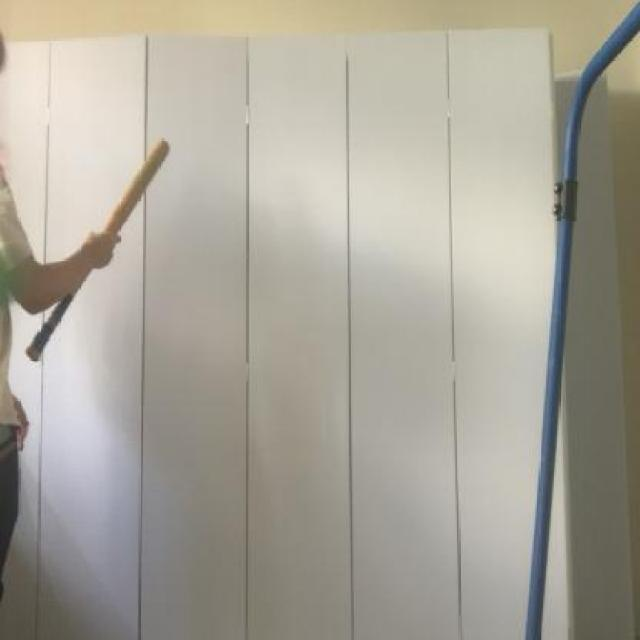baseball: (0, 212, 51, 336)
